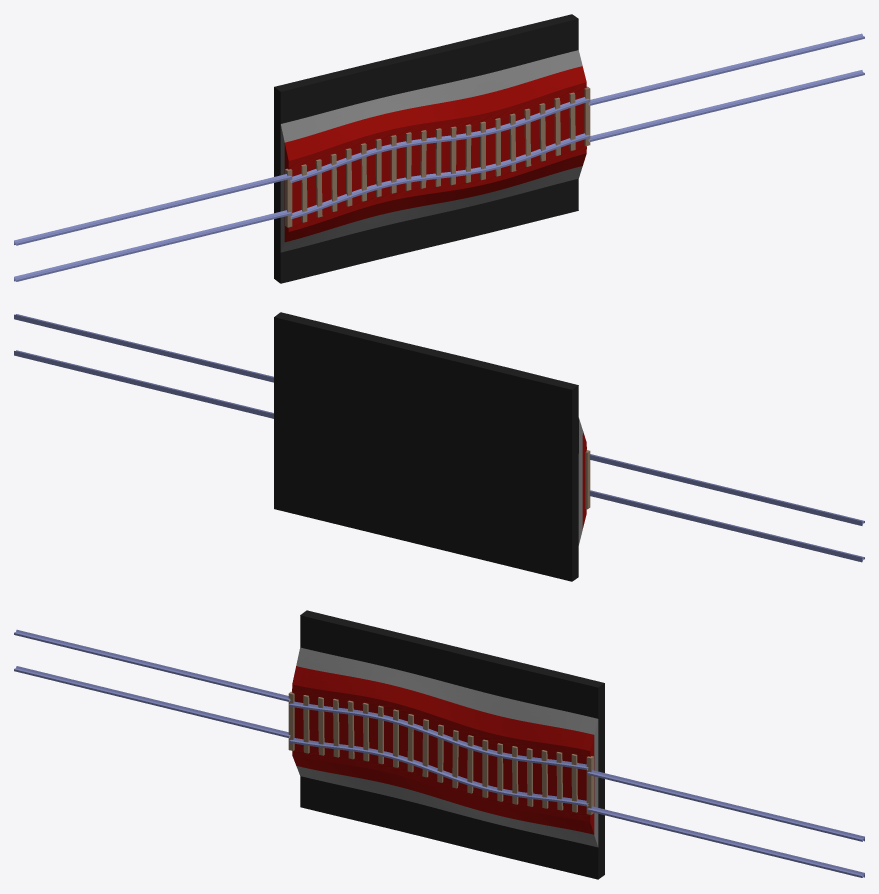
3 renders of one model, top to bottom at view 1: azimuth 30°, elevation 25°; view 2: azimuth 150°, elevation 25°; view 3: azimuth 330°, elevation 25°, orthographic.
Bounding box in the file's own units: 37 × 8.02 × 1.34.
